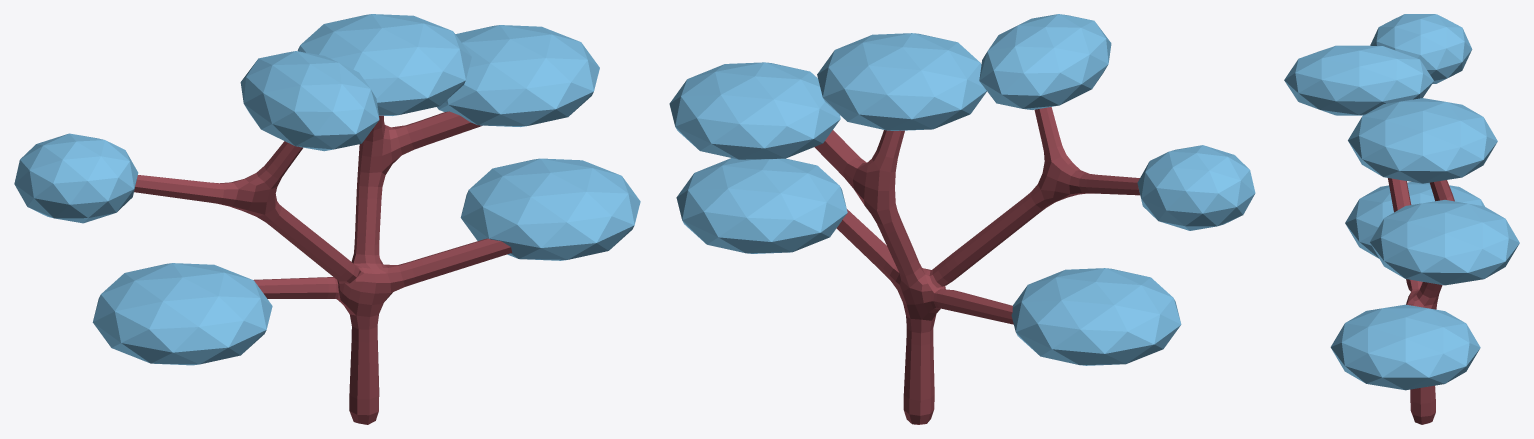
The model's file is Arbol_1.fbx.
3 views of the same model, side by side, from view 1: azimuth 30°, elevation 25°; view 2: azimuth 150°, elevation 25°; view 3: azimuth 270°, elevation 25° (orthographic). The views are drawn at different scales.
Visible parts, largest first — view 1: Cube.002; view 2: Cube.002; view 3: Cube.002.
Part boxes in pixels (x1,y1,x2,y2): Cube.002: [14, 14, 640, 424]; Cube.002: [669, 14, 1255, 424]; Cube.002: [1284, 14, 1519, 424].
Bounding box in the file's own units: 917 × 609 × 387.
